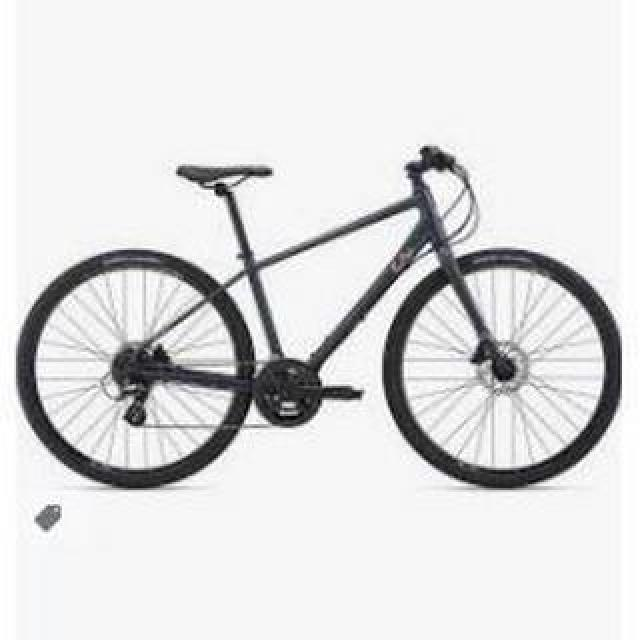Person: (18, 144, 624, 492)
